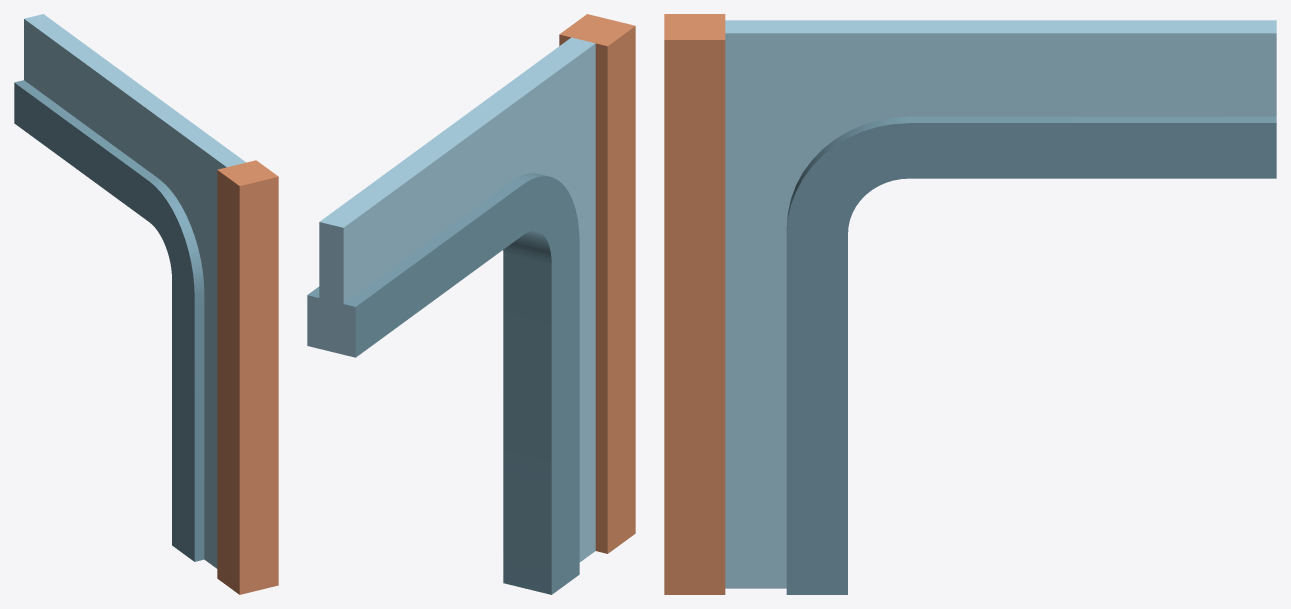
File: wallDoorwaySquareWideCurved.glb
3 views of the same model, side by side, from view 1: azimuth 30°, elevation 25°; view 2: azimuth 150°, elevation 25°; view 3: azimuth 270°, elevation 25° (orthographic). The views are drawn at different scales.
Parts seen in each view (by area): view 1: wallDoorwaySquareWideCurved; view 2: wallDoorwaySquareWideCurved; view 3: wallDoorwaySquareWideCurved.
Part boxes in pixels (x1,y1,x2,y2): wallDoorwaySquareWideCurved: (14, 14, 278, 594); wallDoorwaySquareWideCurved: (307, 14, 635, 594); wallDoorwaySquareWideCurved: (664, 14, 1276, 594).
Bounding box in the file's own units: 0.1 × 1 × 1.
